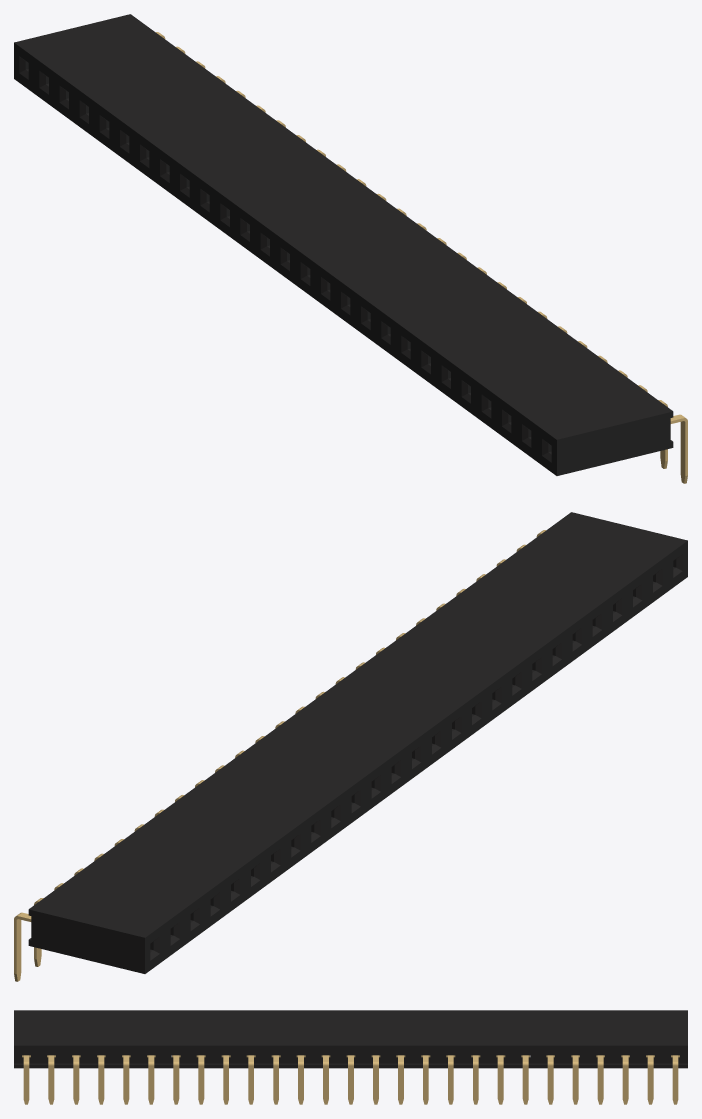
File: kc-pinsocket_1x27_p2.54mm_horizontal.glb
The picture shows the model from 3 angles, top to bottom: view 1: azimuth 30°, elevation 25°; view 2: azimuth 150°, elevation 25°; view 3: azimuth 270°, elevation 25°; orthographic projection. The views are drawn at different scales.
Parts seen in each view (by area): view 1: 0_0_0_0, 0.75_0.5_0.25_0.9; view 2: 0_0_0_0, 0.75_0.5_0.25_0.9; view 3: 0_0_0_0, 0.75_0.5_0.25_0.9.
Part boxes in pixels (left/top/right/bottom): 0_0_0_0: left=14, top=14, right=673, bottom=475; 0.75_0.5_0.25_0.9: left=156, top=32, right=687, bottom=483; 0_0_0_0: left=28, top=512, right=687, bottom=973; 0.75_0.5_0.25_0.9: left=14, top=530, right=545, bottom=981; 0_0_0_0: left=14, top=1010, right=687, bottom=1068; 0.75_0.5_0.25_0.9: left=22, top=1055, right=679, bottom=1104.
Bounding box in the file's own units: 1.01 × 0.5836 × 6.86.
